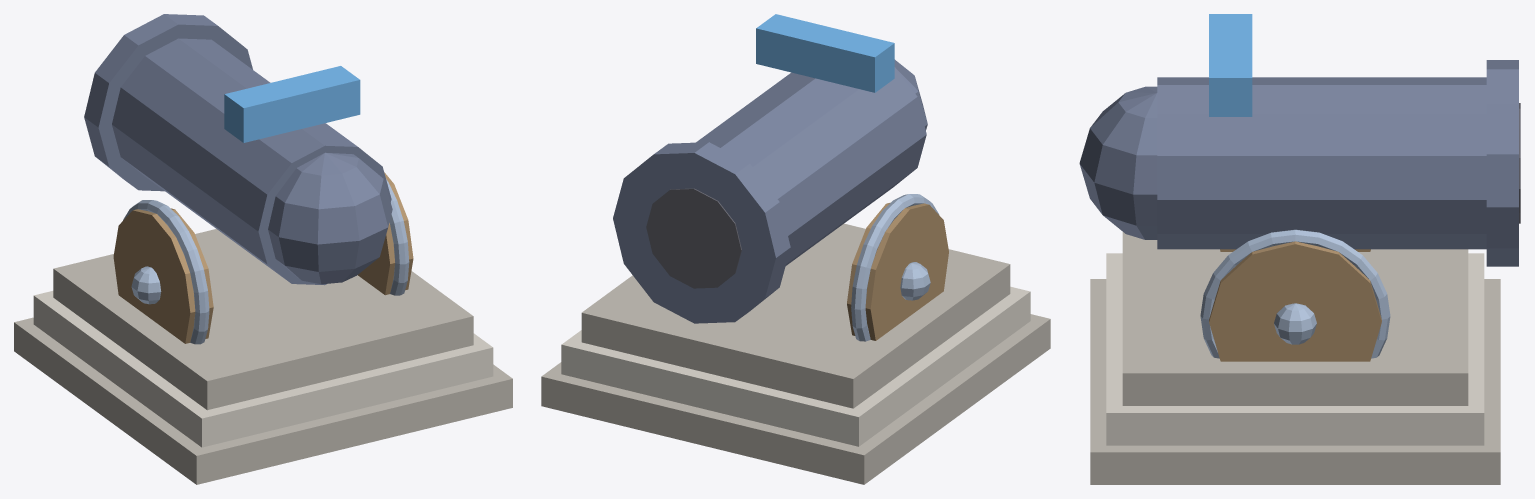
The model's file is cannon.glb.
3 renders of one model, left to right at view 1: azimuth 30°, elevation 25°; view 2: azimuth 150°, elevation 25°; view 3: azimuth 270°, elevation 25°, orthographic. The views are drawn at different scales.
Parts seen in each view (by area): view 1: cannon; view 2: cannon; view 3: cannon.
Part boxes in pixels (<box>): cannon: <box>14,14,512,484</box>; cannon: <box>541,14,1050,484</box>; cannon: <box>1079,14,1520,484</box>.
Bounding box in the file's own units: 1.9 × 1.8 × 2.04.
